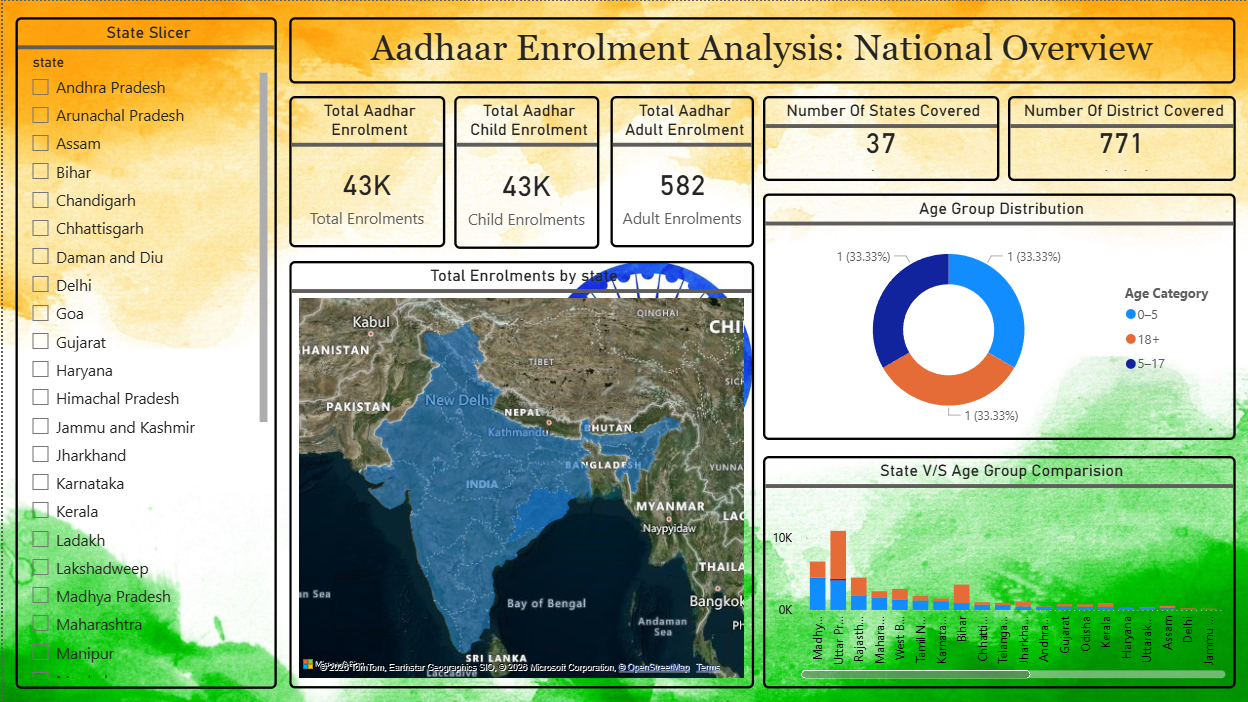

Layout of this report page (visuals, bound fields, positions):
{"tool":"powerbi","page":{"name":"Page 1","canvas":[1280,720],"ordinal":0},"visuals":[{"type":"filledMap","fields":{"Category":["api_data_aadhar_enrolment_1000000_1006029.state"]},"box":[293.6,266.7,476.9,438.5],"z":0},{"type":"donutChart","title":"Age Group Distribution","fields":{"Y":["Count(api_data_aadhar_enrolment_1000000_1006029.Age Category)"],"Category":["api_data_aadhar_enrolment_1000000_1006029.Age Category"]},"box":[779.5,197.4,484.6,252.6],"z":1000},{"type":"columnChart","title":"State V/S Age Group Comparision","fields":{"Category":["api_data_aadhar_enrolment_1000000_1006029.state"],"Y":["Sum(api_data_aadhar_enrolment_1000000_1006029.age_0_5)","Sum(api_data_aadhar_enrolment_1000000_1006029.age_18_greater)","Sum(api_data_aadhar_enrolment_1000000_1006029.age_5_17)"]},"box":[779.5,466.7,484.6,238.5],"z":2000},{"type":"slicer","title":"State Slicer","fields":{"Values":["api_data_aadhar_enrolment_1000000_1006029.state"]},"box":[12.8,16.7,267.9,688.5],"z":4001},{"type":"textbox","box":[293.6,16.7,970.5,67.9],"z":4002},{"type":"card","title":"Total Aadhar Enrolment","fields":{"Values":["api_data_aadhar_enrolment_1000000_1006029.Total Enrolments"]},"box":[293.6,97.4,160.3,155.1],"z":4003},{"type":"card","title":"Total Aadhar Child Enrolment","fields":{"Values":["api_data_aadhar_enrolment_1000000_1006029.Child Enrolments"]},"box":[462.8,97.4,148.7,156.4],"z":4004},{"type":"card","title":"Total Aadhar Adult Enrolment","fields":{"Values":["api_data_aadhar_enrolment_1000000_1006029.Adult Enrolments"]},"box":[623.1,97.4,147.4,155.1],"z":4005},{"type":"card","title":"Number Of States Covered","fields":{"Values":["api_data_aadhar_enrolment_1000000_1006029.Total States"]},"box":[779.5,97.4,242.3,87.2],"z":4006},{"type":"card","title":"Number Of District Covered","fields":{"Values":["api_data_aadhar_enrolment_1000000_1006029.Total Districts"]},"box":[1030.8,97.4,233.3,87.2],"z":4007}]}

Visuals, with their boxes in screenshot pixels (x1, y1, x2, y2), scaled from the page's 1280x720 canvas onto the 1248x702 screenshot:
filledMap - api_data_aadhar_enrolment_1000000_1006029.state: (286, 260, 751, 688)
"Age Group Distribution" donutChart: (760, 192, 1232, 439)
"State V/S Age Group Comparision" columnChart: (760, 455, 1232, 688)
"State Slicer" slicer: (12, 16, 274, 688)
textbox: (286, 16, 1232, 82)
"Total Aadhar Enrolment" card: (286, 95, 443, 246)
"Total Aadhar Child Enrolment" card: (451, 95, 596, 247)
"Total Aadhar Adult Enrolment" card: (608, 95, 751, 246)
"Number Of States Covered" card: (760, 95, 996, 180)
"Number Of District Covered" card: (1005, 95, 1232, 180)
